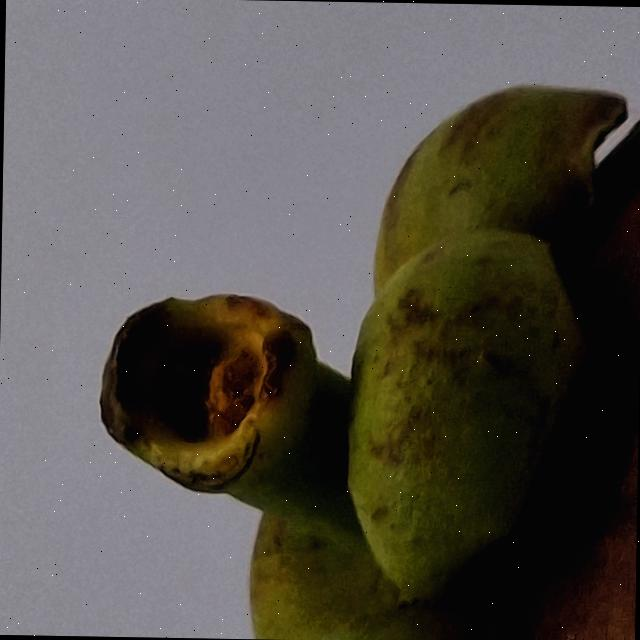mangosteen: (49, 0, 640, 640)
